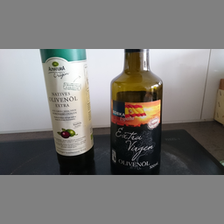oil: (39, 49, 97, 174), (110, 49, 164, 175)
